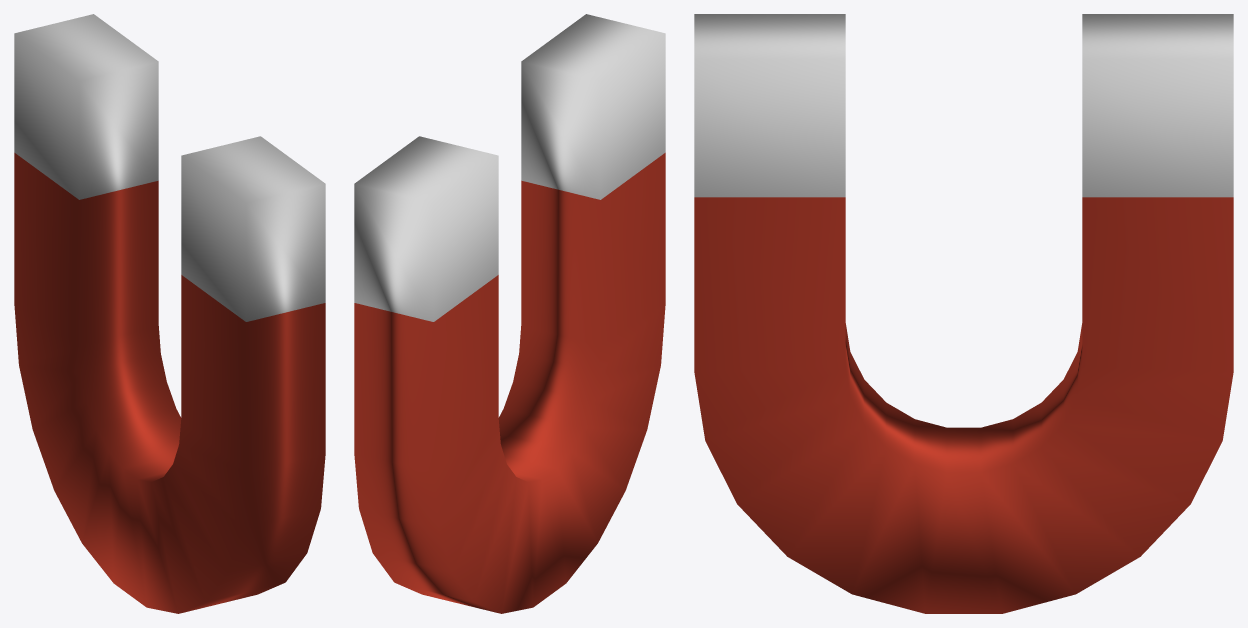
The model's file is Magnet.fbx.
3 views of the same model, side by side, from view 1: azimuth 30°, elevation 25°; view 2: azimuth 150°, elevation 25°; view 3: azimuth 270°, elevation 25° (orthographic). The views are drawn at different scales.
Visible parts, largest first — view 1: Magnet; view 2: Magnet; view 3: Magnet.
Part boxes in pixels (x1,y1,x2,y2): Magnet: [14, 14, 325, 613]; Magnet: [354, 14, 665, 613]; Magnet: [694, 14, 1233, 613].
Size of the model in its own units: 114 by 651 by 574.
